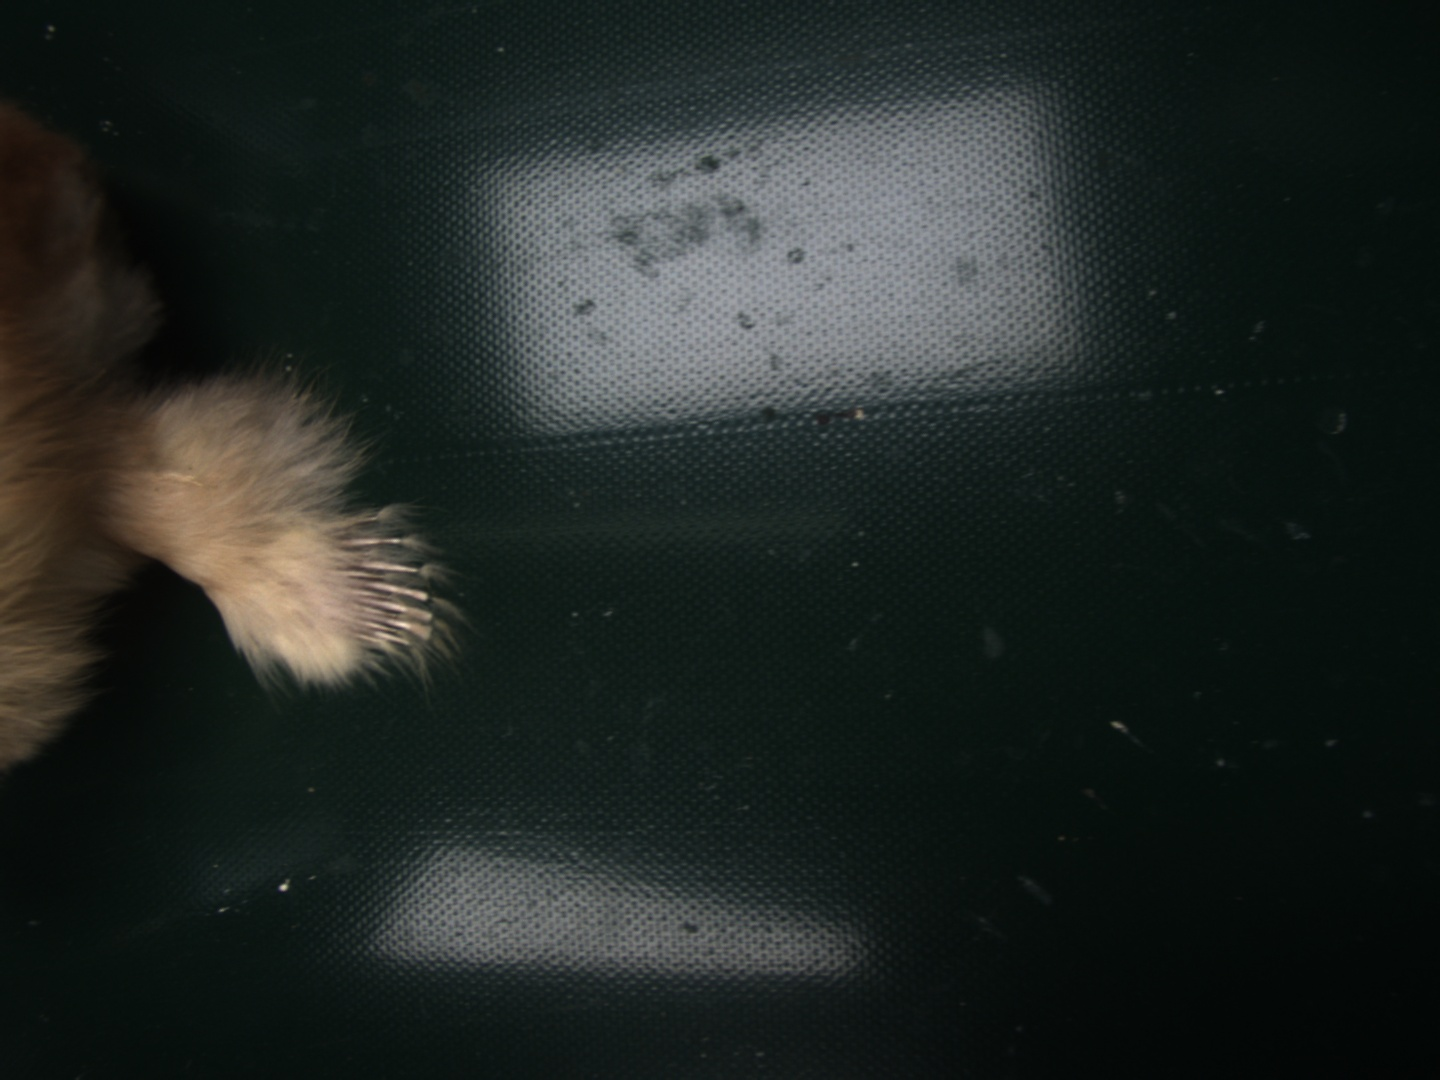female: (321, 514, 433, 656)
